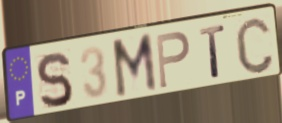3: (79, 44, 110, 102)
C: (233, 15, 276, 76)
M: (109, 31, 159, 102)
P: (154, 30, 192, 92)
S: (34, 50, 75, 111)
T: (198, 23, 228, 80)
